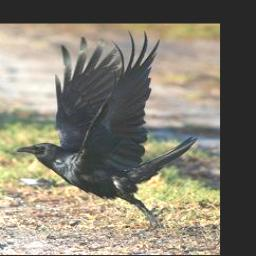Crow: (14, 28, 198, 232)
